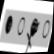correct: (2, 14, 14, 35)
not correct: (22, 15, 40, 53)
